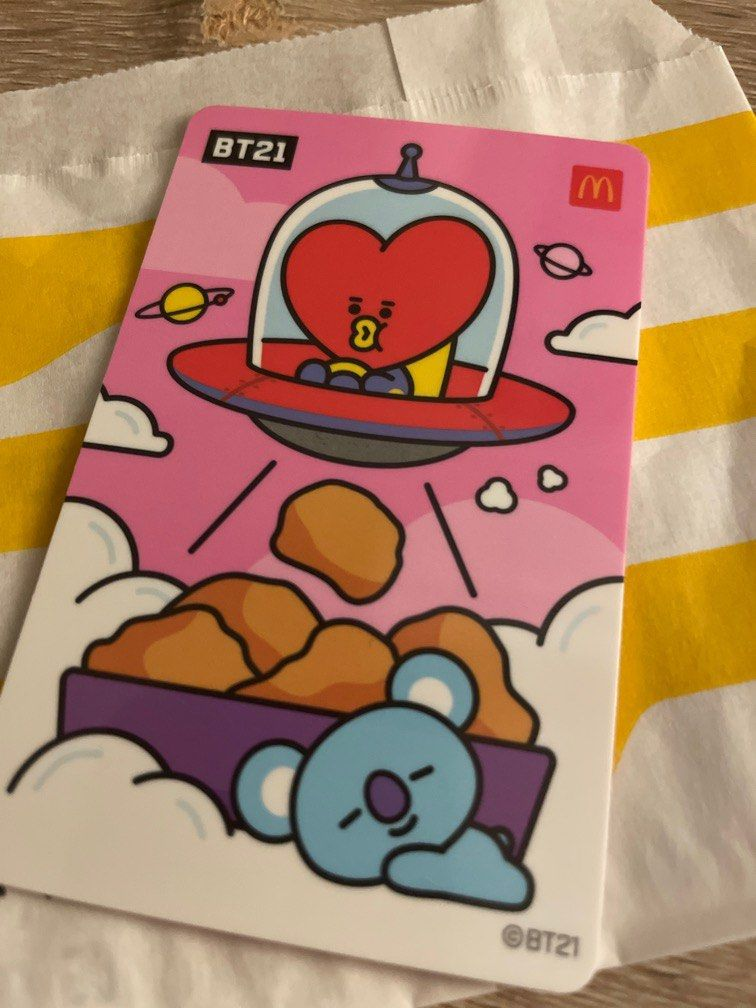card: (26, 107, 629, 995)
